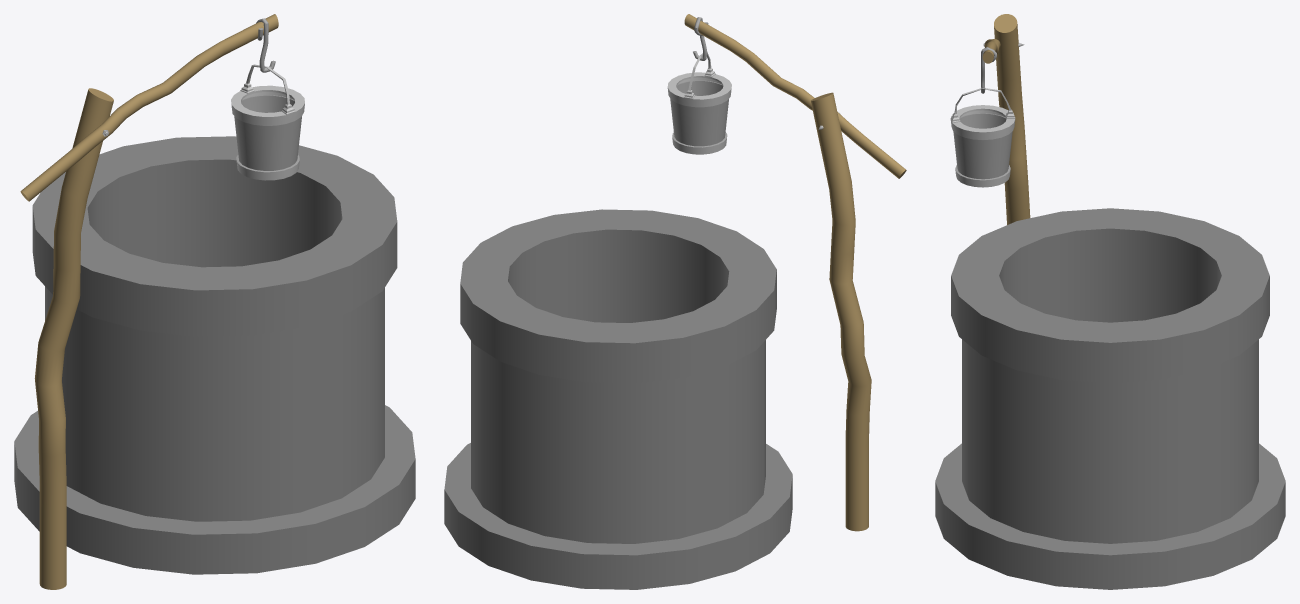
File: welllwwel.fbx
3 views of the same model, side by side, from view 1: azimuth 30°, elevation 25°; view 2: azimuth 150°, elevation 25°; view 3: azimuth 270°, elevation 25° (orthographic). The views are drawn at different scales.
Visible parts, largest first — view 1: pCylinder1, pCylinder2, pCylinder4, pCylinder3; view 2: pCylinder1, pCylinder2, pCylinder4, pCylinder3; view 3: pCylinder1, pCylinder4, pCylinder2.
Part boxes in pixels (<box>): pCylinder1: <box>14,136,415,574</box>; pCylinder2: <box>34,88,113,589</box>; pCylinder4: <box>231,64,304,180</box>; pCylinder3: <box>20,14,278,201</box>; pCylinder1: <box>444,209,792,589</box>; pCylinder2: <box>811,92,871,531</box>; pCylinder4: <box>667,52,731,154</box>; pCylinder3: <box>684,14,906,178</box>; pCylinder1: <box>935,208,1285,589</box>; pCylinder4: <box>950,88,1015,187</box>; pCylinder2: <box>994,14,1030,224</box>.
Bounding box in the file's own units: 164 × 190 × 131.
